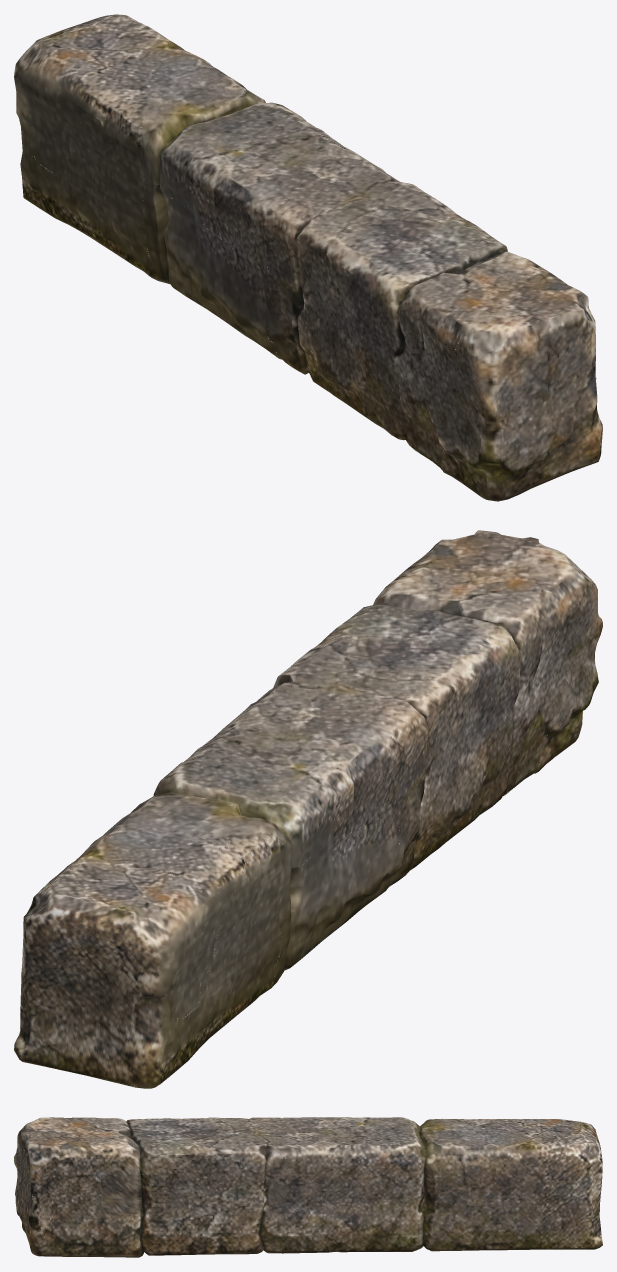
File: piece_03_6433tris.glb
3 views of the same model, one above another, from view 1: azimuth 30°, elevation 25°; view 2: azimuth 150°, elevation 25°; view 3: azimuth 270°, elevation 25° (orthographic). The views are drawn at different scales.
Parts seen in each view (by area): view 1: Eldoria_MultiPiece_Group_03; view 2: Eldoria_MultiPiece_Group_03; view 3: Eldoria_MultiPiece_Group_03.
Boxes of the visible parts, x1=… form: Eldoria_MultiPiece_Group_03: x1=14, y1=14, x2=602, y2=501; Eldoria_MultiPiece_Group_03: x1=14, y1=530, x2=602, y2=1088; Eldoria_MultiPiece_Group_03: x1=14, y1=1117, x2=602, y2=1257.
Size of the model in its own units: 0.1109 by 0.1087 by 0.5182.
Materials: 1 (1 with a texture image).
